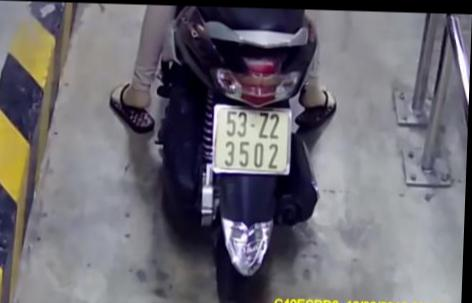LP: (211, 102, 296, 173)
